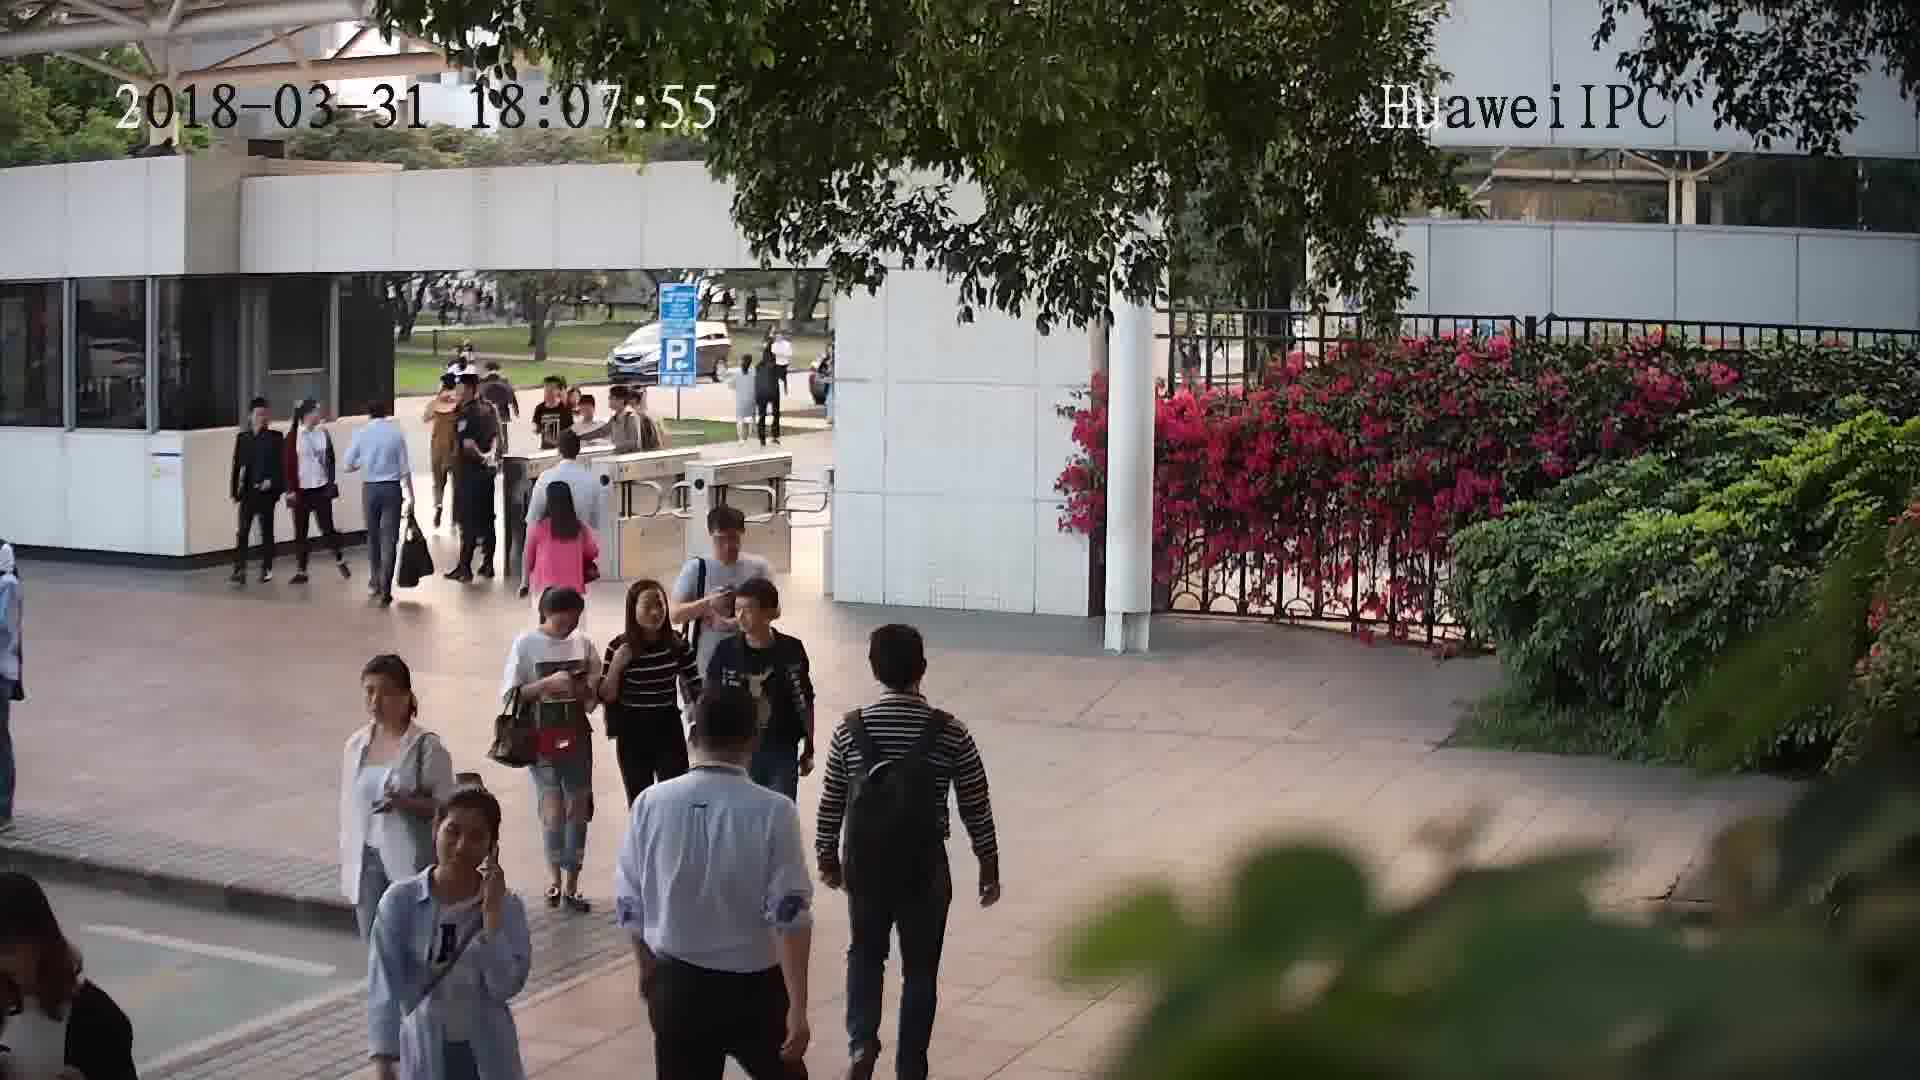face: (427, 807, 499, 879), (354, 668, 411, 725), (630, 585, 668, 635), (730, 596, 771, 635)
person: (629, 692, 797, 831), (380, 786, 521, 932), (3, 868, 121, 1032), (835, 622, 969, 754), (343, 652, 458, 770), (710, 572, 808, 667), (609, 574, 693, 661), (683, 502, 765, 585), (509, 583, 596, 657), (535, 477, 597, 540), (541, 426, 603, 481), (352, 394, 410, 445), (233, 393, 282, 450), (283, 393, 330, 445), (453, 373, 499, 425), (608, 381, 655, 428), (533, 374, 577, 420), (426, 367, 466, 415), (567, 389, 610, 433), (477, 357, 518, 392), (733, 352, 761, 381)
